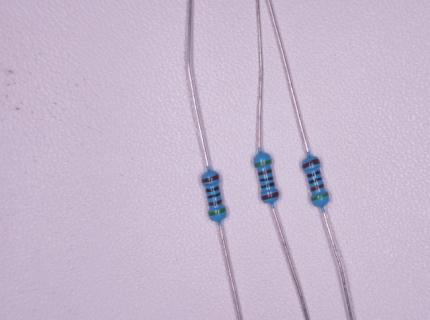Black band: (205, 185, 220, 194), (307, 170, 321, 178), (309, 177, 322, 185), (261, 182, 275, 189), (207, 193, 221, 200), (260, 176, 273, 182)
Brown band: (302, 158, 320, 169), (201, 174, 220, 184), (261, 191, 280, 201), (310, 183, 324, 193), (209, 199, 223, 207), (258, 168, 272, 176)
Green band: (311, 191, 329, 202), (209, 208, 227, 217), (255, 159, 272, 167)
